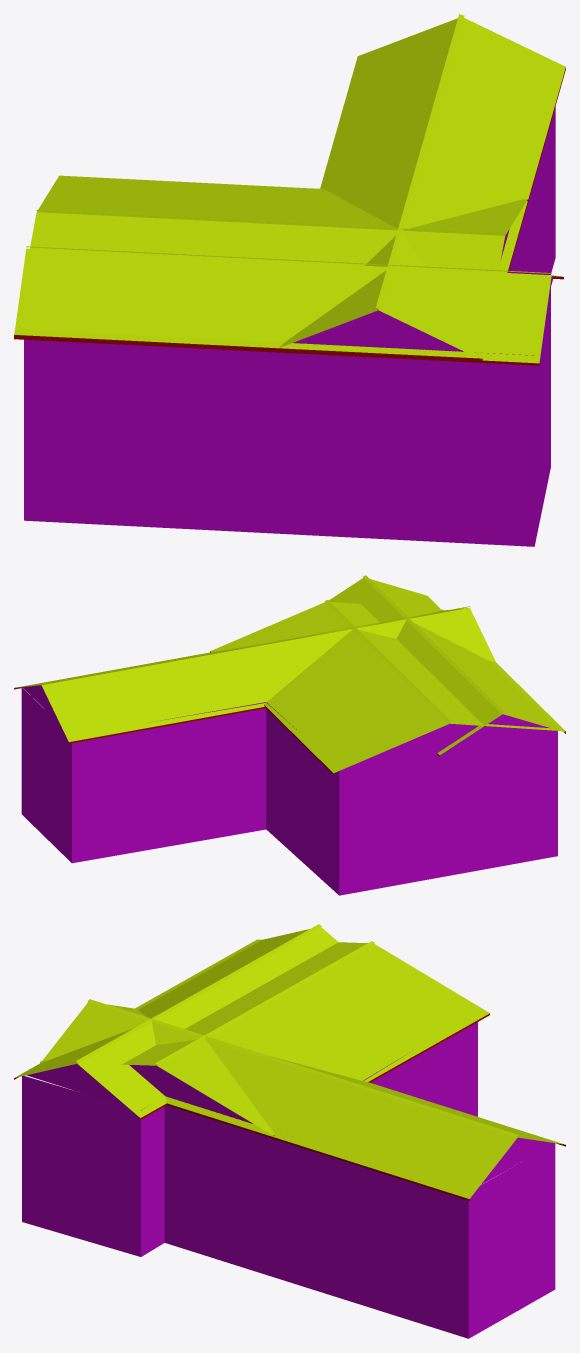
The model's file is srz_28.glb.
3 views of the same model, one above another, from view 1: azimuth 30°, elevation 25°; view 2: azimuth 150°, elevation 25°; view 3: azimuth 270°, elevation 25° (orthographic). The views are drawn at different scales.
Parts seen in each view (by area): view 1: srz_28; view 2: srz_28; view 3: srz_28.
Boxes of the visible parts, x1=… form: srz_28: x1=14, y1=14, x2=565, y2=546; srz_28: x1=14, y1=575, x2=565, y2=895; srz_28: x1=14, y1=924, x2=565, y2=1338.
Size of the model in its own units: 35.25 by 11.46 by 31.83.
